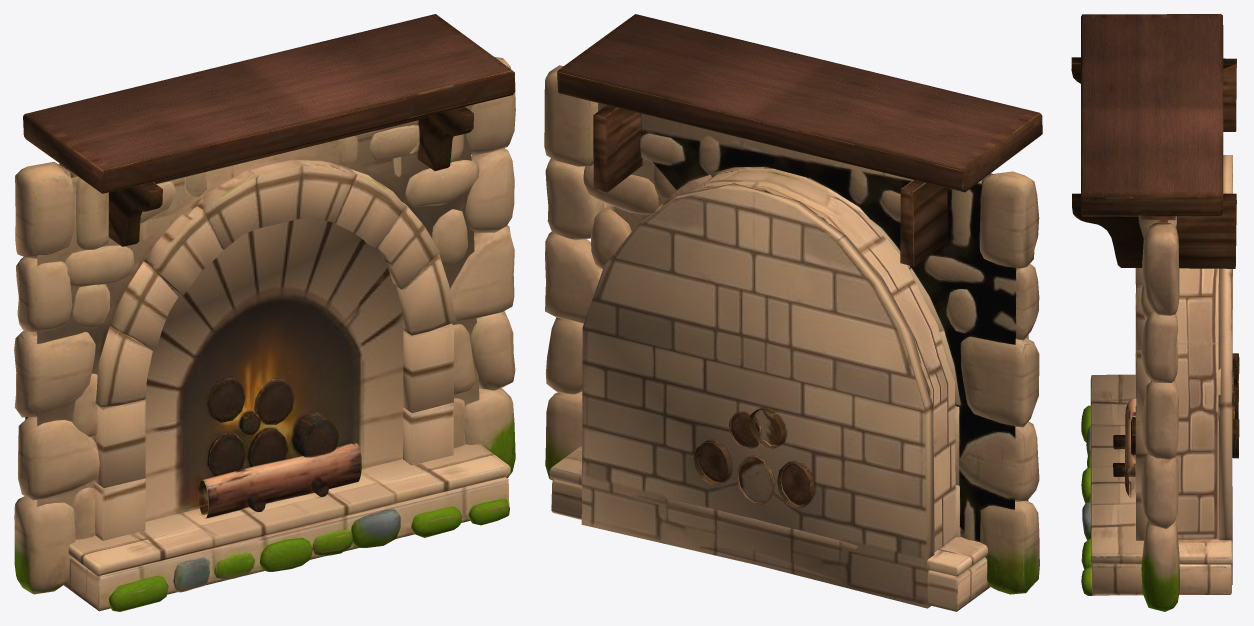
Rendered from fireplace.glb.
3 renders of one model, left to right at view 1: azimuth 30°, elevation 25°; view 2: azimuth 150°, elevation 25°; view 3: azimuth 270°, elevation 25°, orthographic. The views are drawn at different scales.
Size of the model in its own units: 1.8 by 1.6 by 0.6.
1 material, 1 textured.
